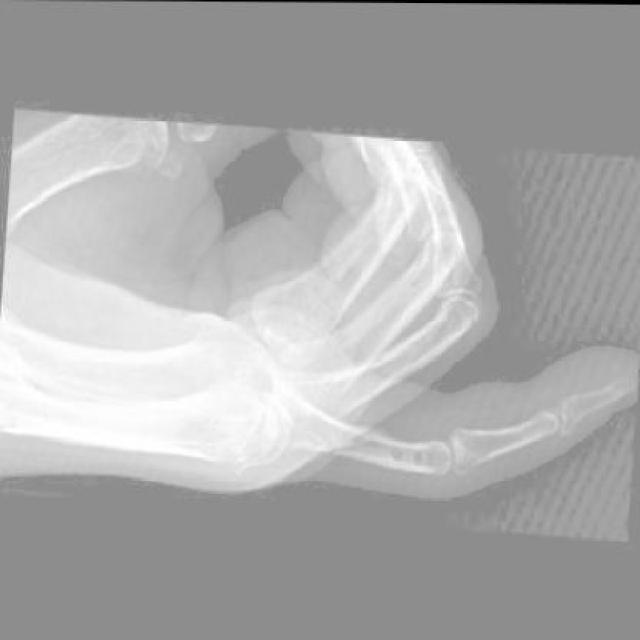Fracture: (449, 457, 474, 476), (557, 414, 577, 434)
